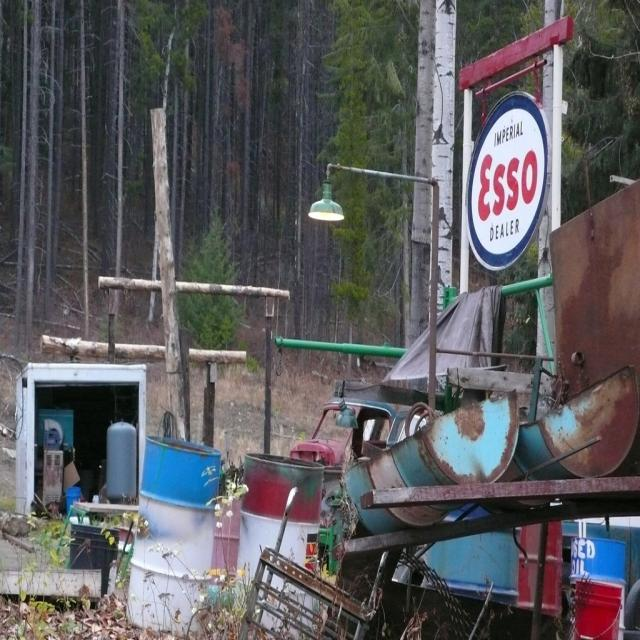esso: (464, 88, 554, 276)
